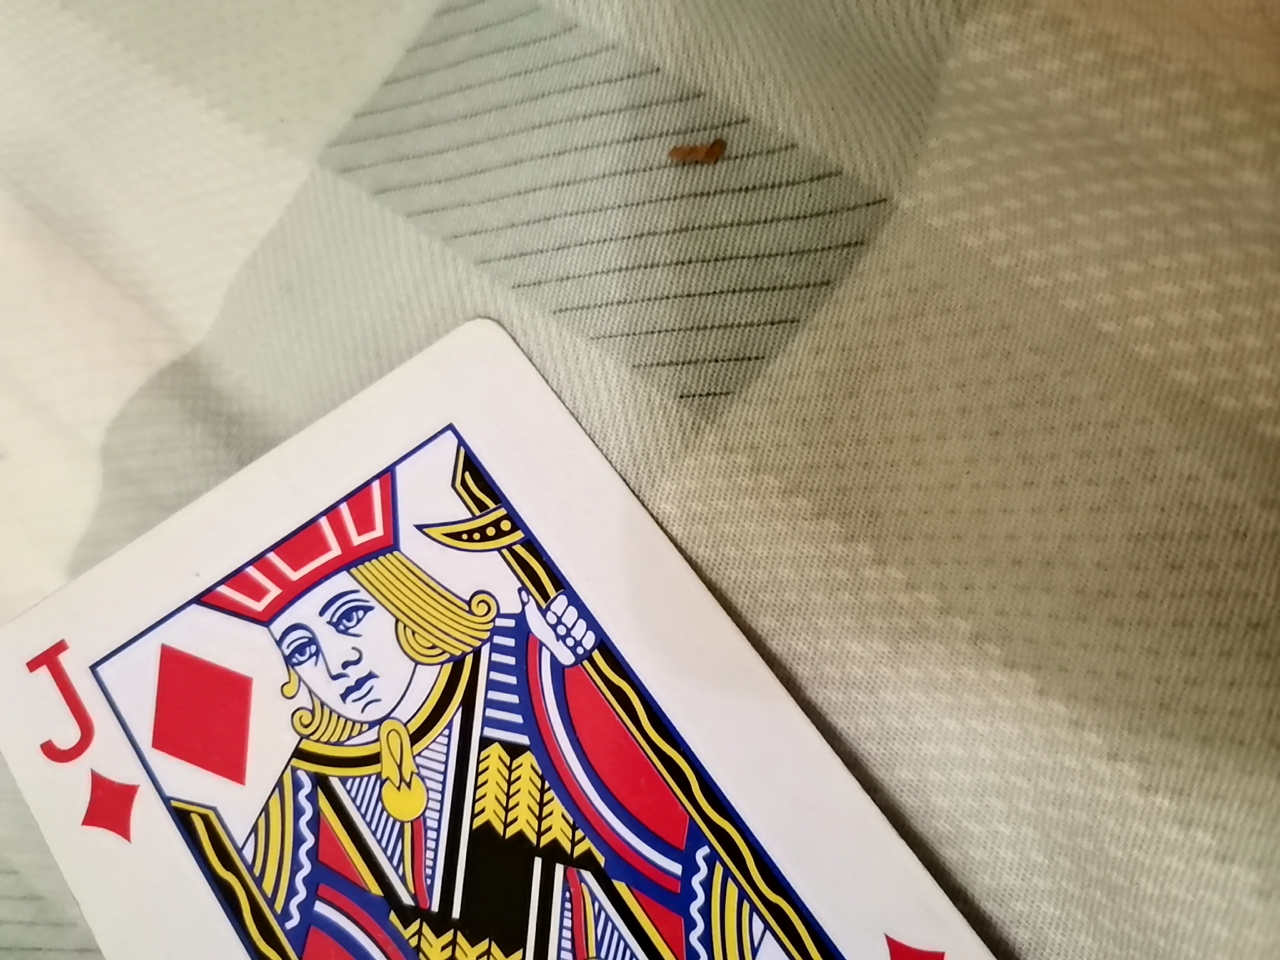fk j: (13, 314, 1126, 949)
